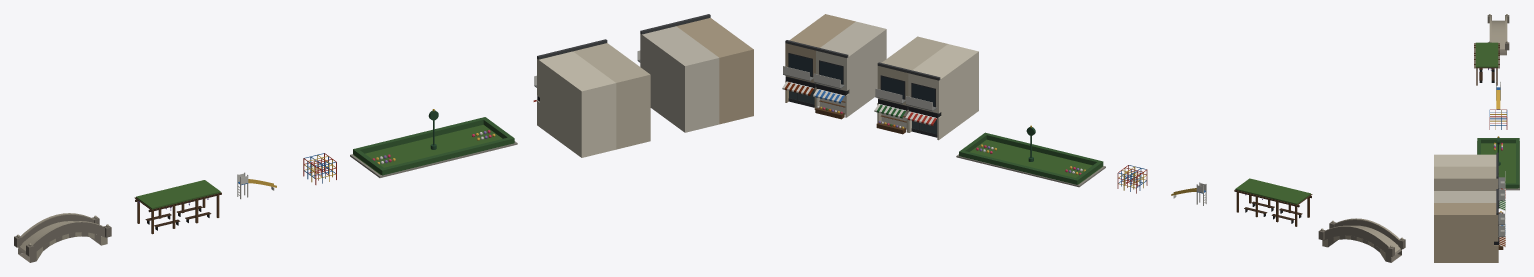
The model's file is midori.glb.
3 renders of one model, left to right at view 1: azimuth 30°, elevation 25°; view 2: azimuth 150°, elevation 25°; view 3: azimuth 270°, elevation 25°, orthographic. The views are drawn at different scales.
Parts seen in each view (by area): view 1: midori_ginza_a_body, midori_ginza_b_body, midori_island_body, midori_bridge_body, midori_trellis_body, midori_climber_body; view 2: midori_ginza_a_body, midori_ginza_b_body, midori_island_body, midori_bridge_body, midori_trellis_body, midori_climber_body; view 3: midori_ginza_b_body, midori_ginza_a_body, midori_island_body, midori_trellis_body, midori_bridge_body, midori_climber_body, midori_slide_body.
Part boxes in pixels (x1,y1,x2,y2): midori_ginza_a_body: (533,39,650,157); midori_ginza_b_body: (637,14,753,132); midori_island_body: (350,109,517,177); midori_bridge_body: (14,213,111,262); midori_trellis_body: (134,180,221,234); midori_climber_body: (303,153,336,184); midori_ginza_a_body: (874,36,978,140); midori_ginza_b_body: (782,14,886,119); midori_island_body: (956,125,1105,187); midori_bridge_body: (1318,218,1405,262); midori_trellis_body: (1234,178,1312,226); midori_climber_body: (1117,165,1147,193); midori_ginza_b_body: (1434,189,1505,262); midori_ginza_a_body: (1434,152,1505,213); midori_island_body: (1477,136,1519,190); midori_trellis_body: (1474,42,1499,85); midori_bridge_body: (1487,14,1509,55); midori_climber_body: (1489,109,1507,129); midori_slide_body: (1496,81,1500,109).
Bounding box in the file's own units: 79.9 × 8.6 × 12.
